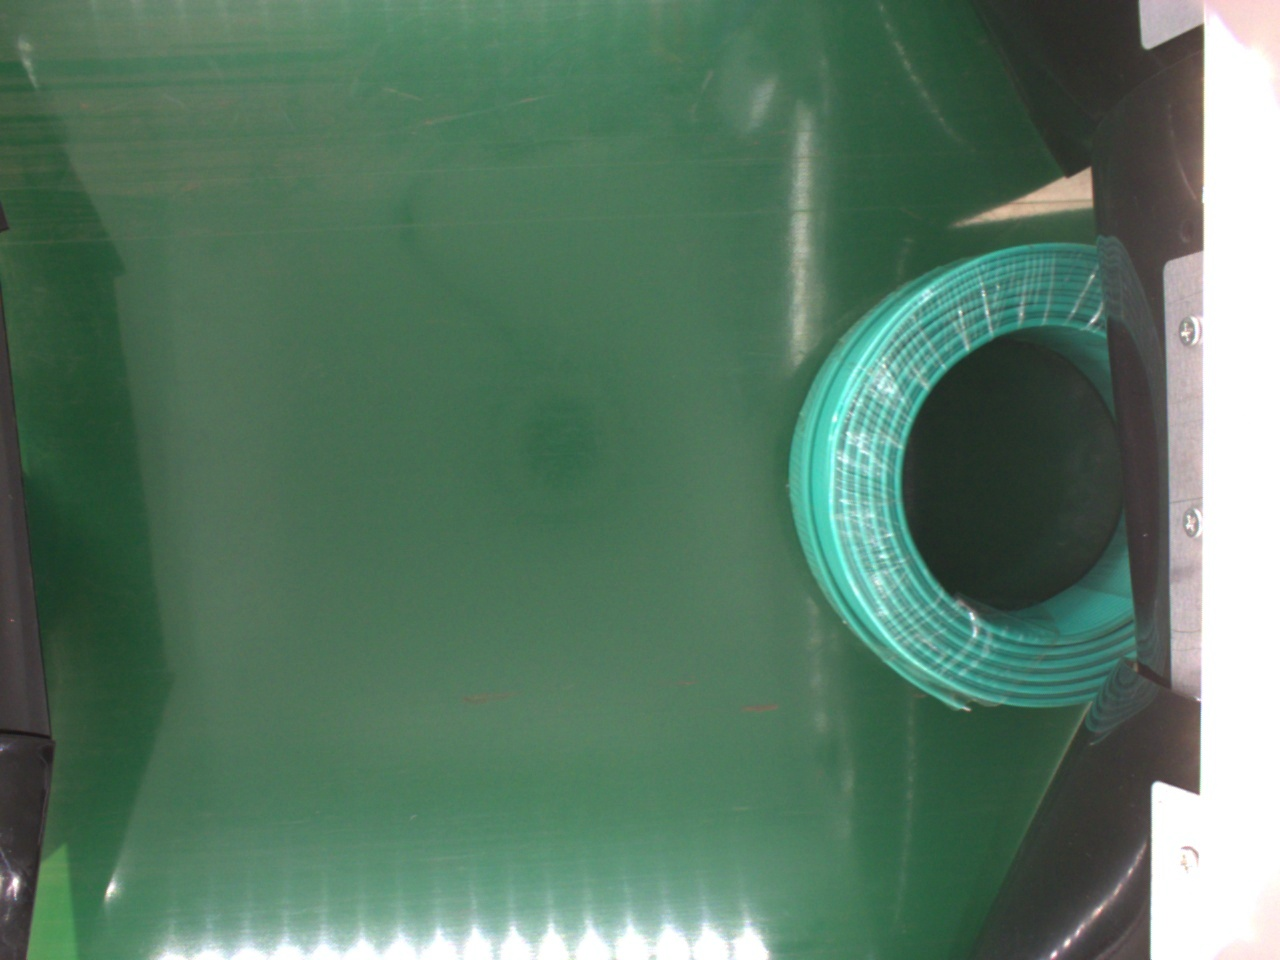green: (788, 243, 1148, 713)
